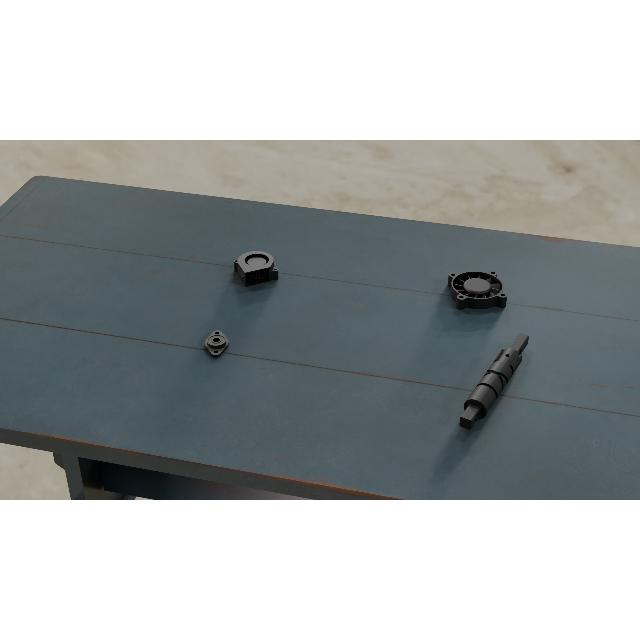Pieza1: (453, 327, 535, 437)
Pieza2: (204, 328, 228, 358)
Pieza3: (232, 248, 280, 288)
Pieza4: (446, 270, 509, 310)
